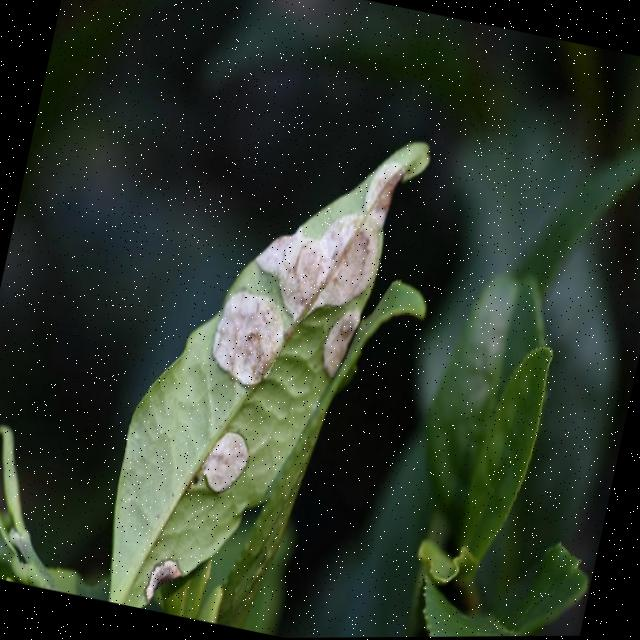Tea cake: (260, 138, 407, 314), (212, 287, 295, 393), (200, 425, 256, 504), (316, 302, 369, 378), (137, 555, 189, 611)
